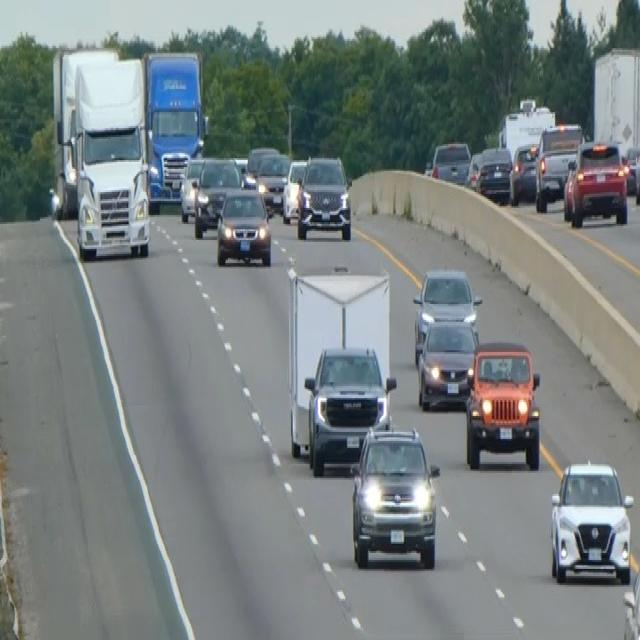car: (303, 343, 393, 475), (549, 457, 633, 585), (464, 340, 541, 470), (412, 265, 481, 363), (416, 316, 479, 411), (563, 138, 628, 228), (296, 153, 352, 240), (215, 185, 271, 267), (534, 121, 583, 211), (193, 155, 241, 238), (475, 144, 514, 203), (254, 153, 290, 211), (509, 140, 538, 204), (430, 139, 471, 183), (281, 156, 307, 224), (179, 155, 205, 222), (244, 144, 278, 187), (623, 144, 639, 196), (465, 150, 483, 190), (633, 144, 639, 206)
jeep: (349, 421, 441, 571)
lorry: (50, 46, 152, 260), (141, 48, 209, 210)
